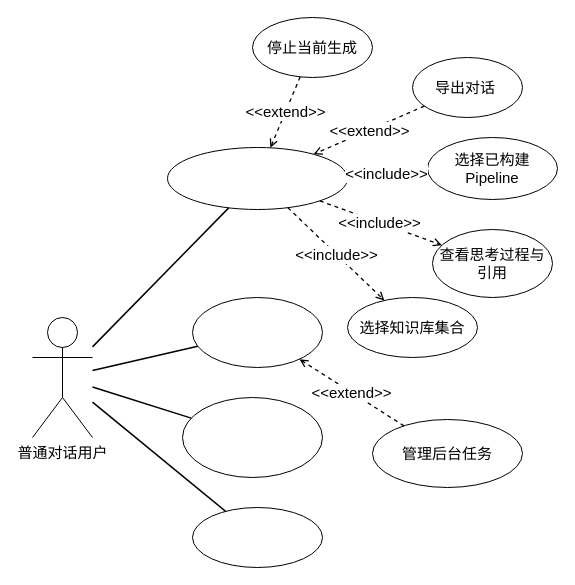
This 575x585 diagram has some shape labels left out. The box of each missing label's shape, as (x1, y1, x2, y2) in pixels:
切换语言/主题: (192, 506, 322, 568)
后台任务运行: (192, 296, 322, 368)
管理会话（新建/重命名/导入导出）: (182, 396, 322, 478)
进行聊天问答: (166, 146, 348, 210)
